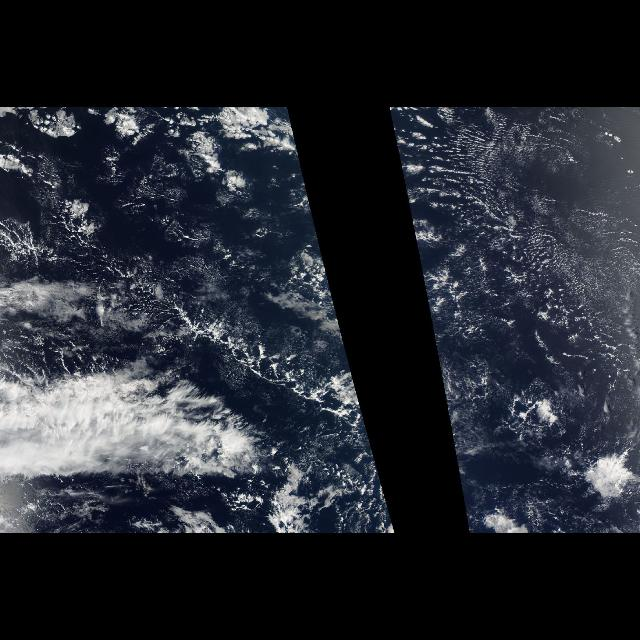Fish: (97, 222, 369, 438)
Flower: (558, 442, 640, 520)
Gravel: (420, 112, 626, 330)
Sugar: (411, 126, 639, 400)
